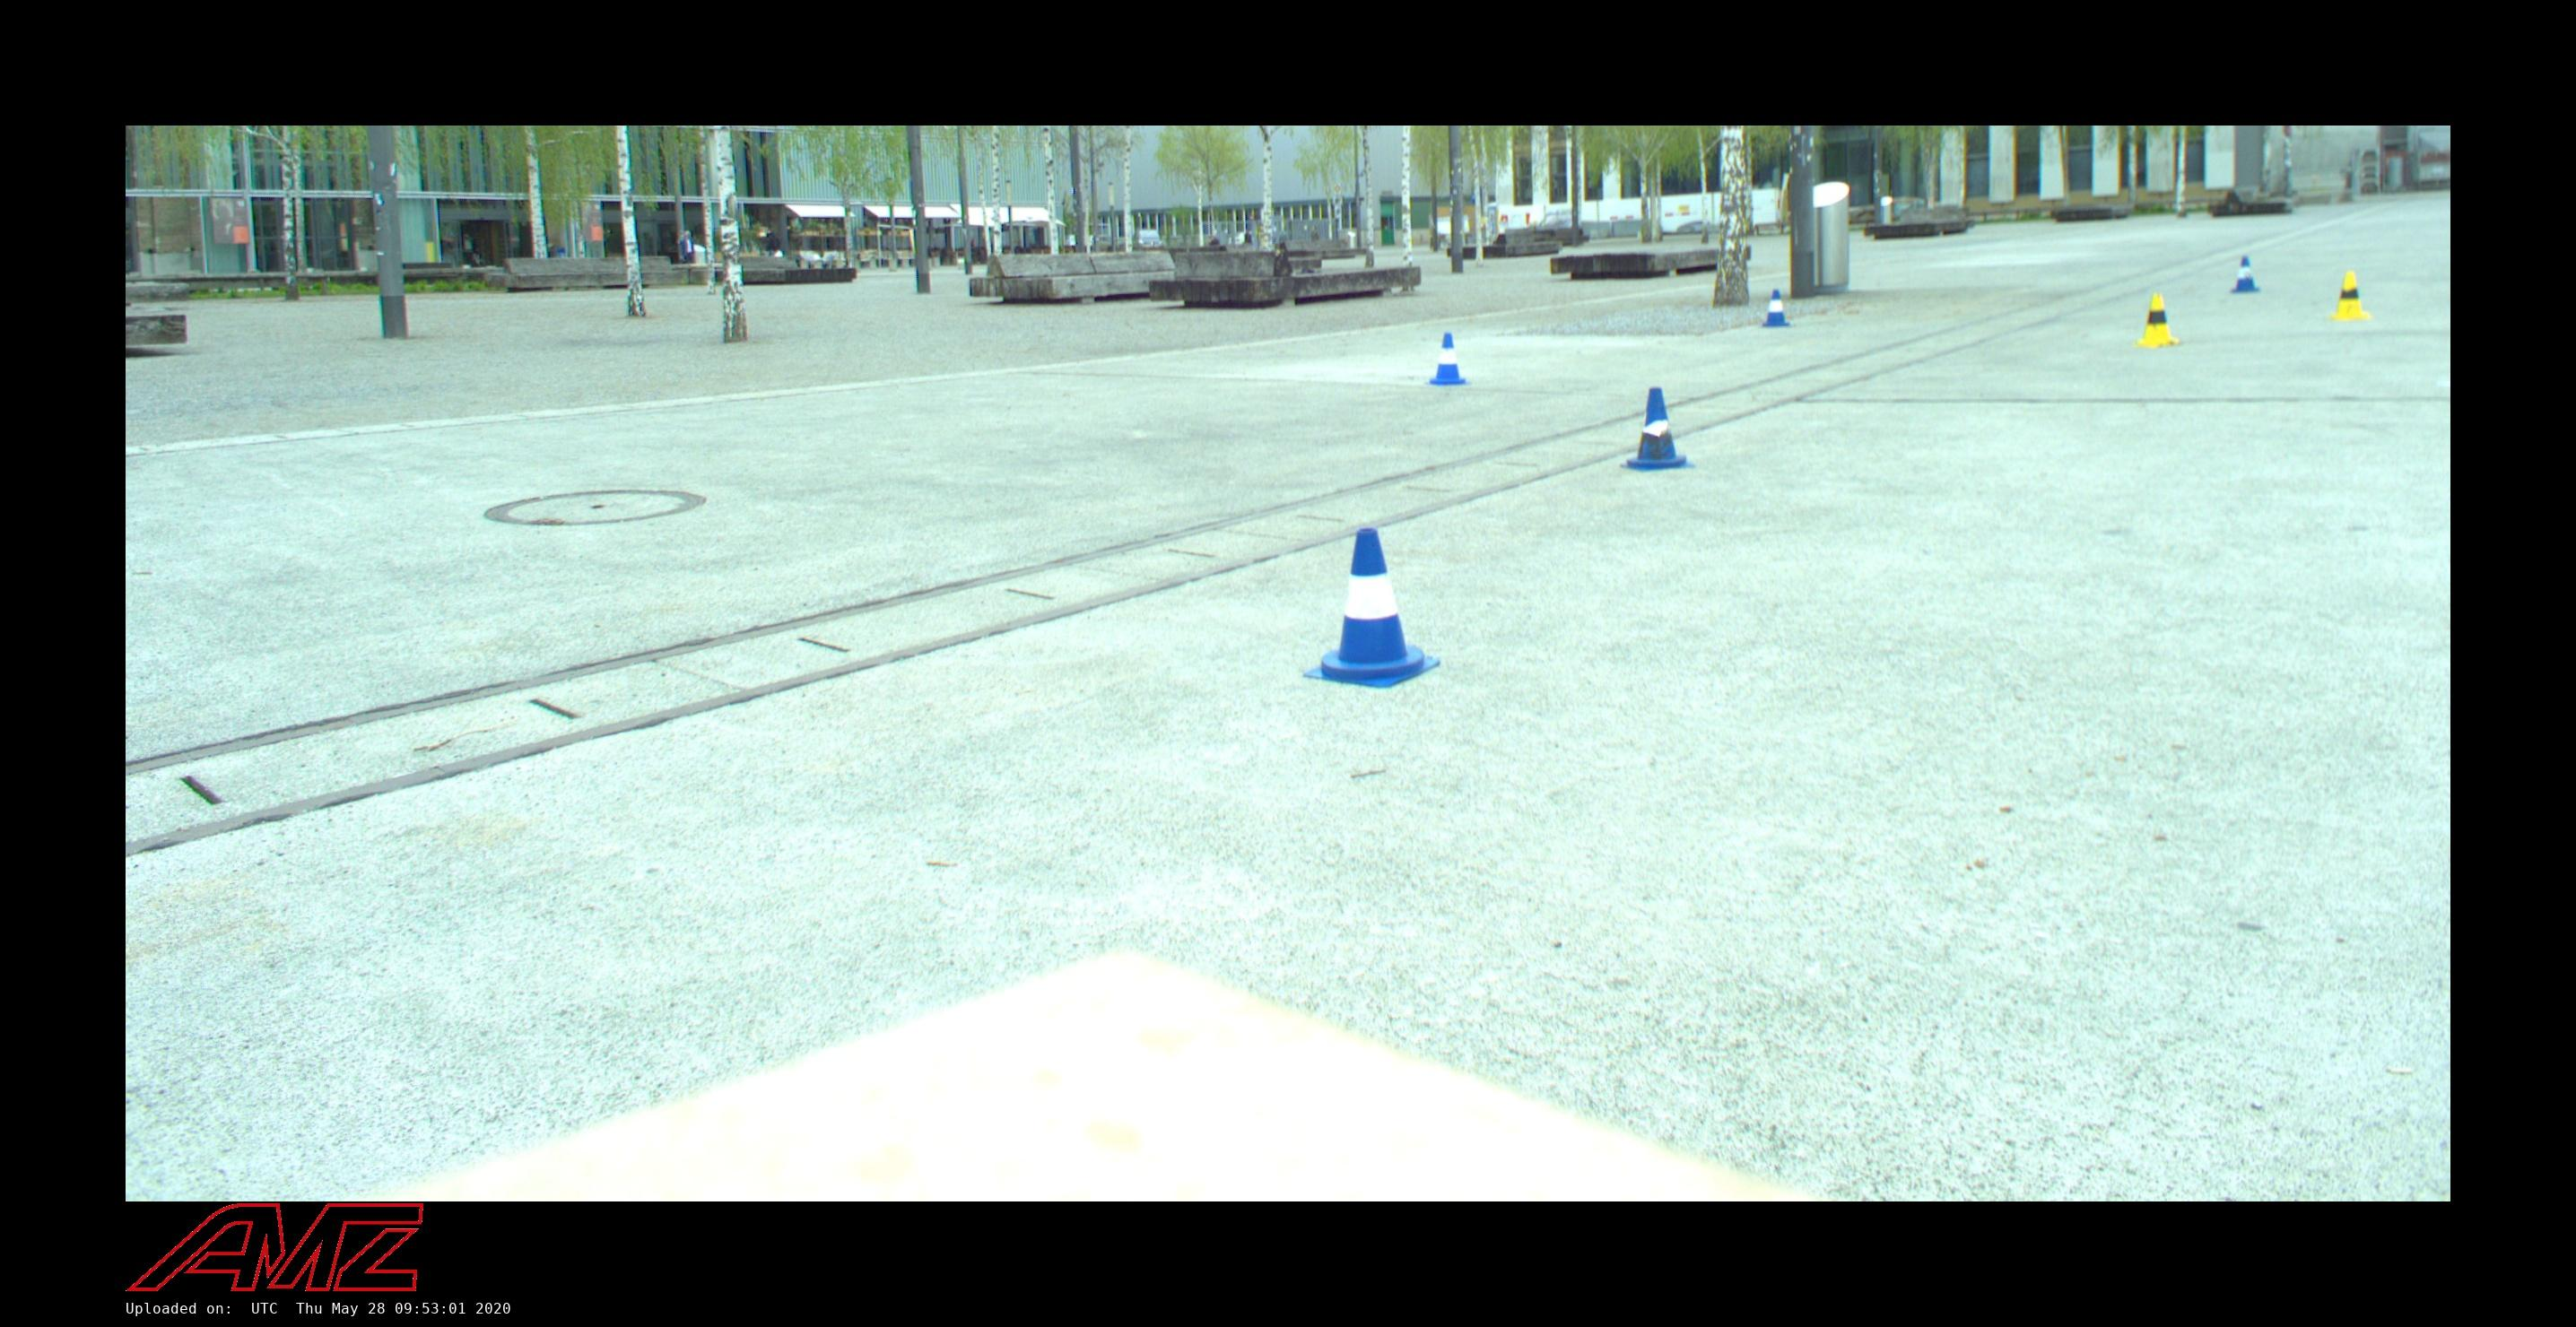blue_cone: (1297, 528, 1440, 687), (1624, 388, 1692, 470), (1423, 334, 1474, 386), (2231, 255, 2264, 293), (1762, 289, 1791, 325)
yellow_cone: (2134, 294, 2181, 347), (2326, 271, 2371, 321)
